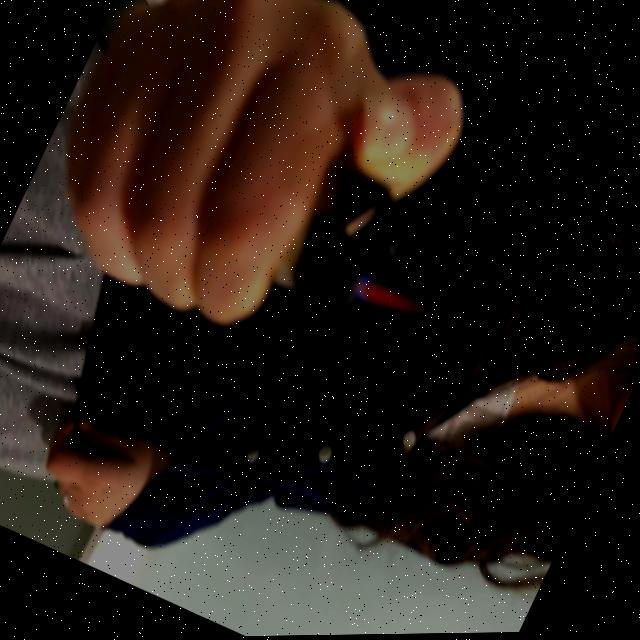Fire: (342, 266, 450, 342)
